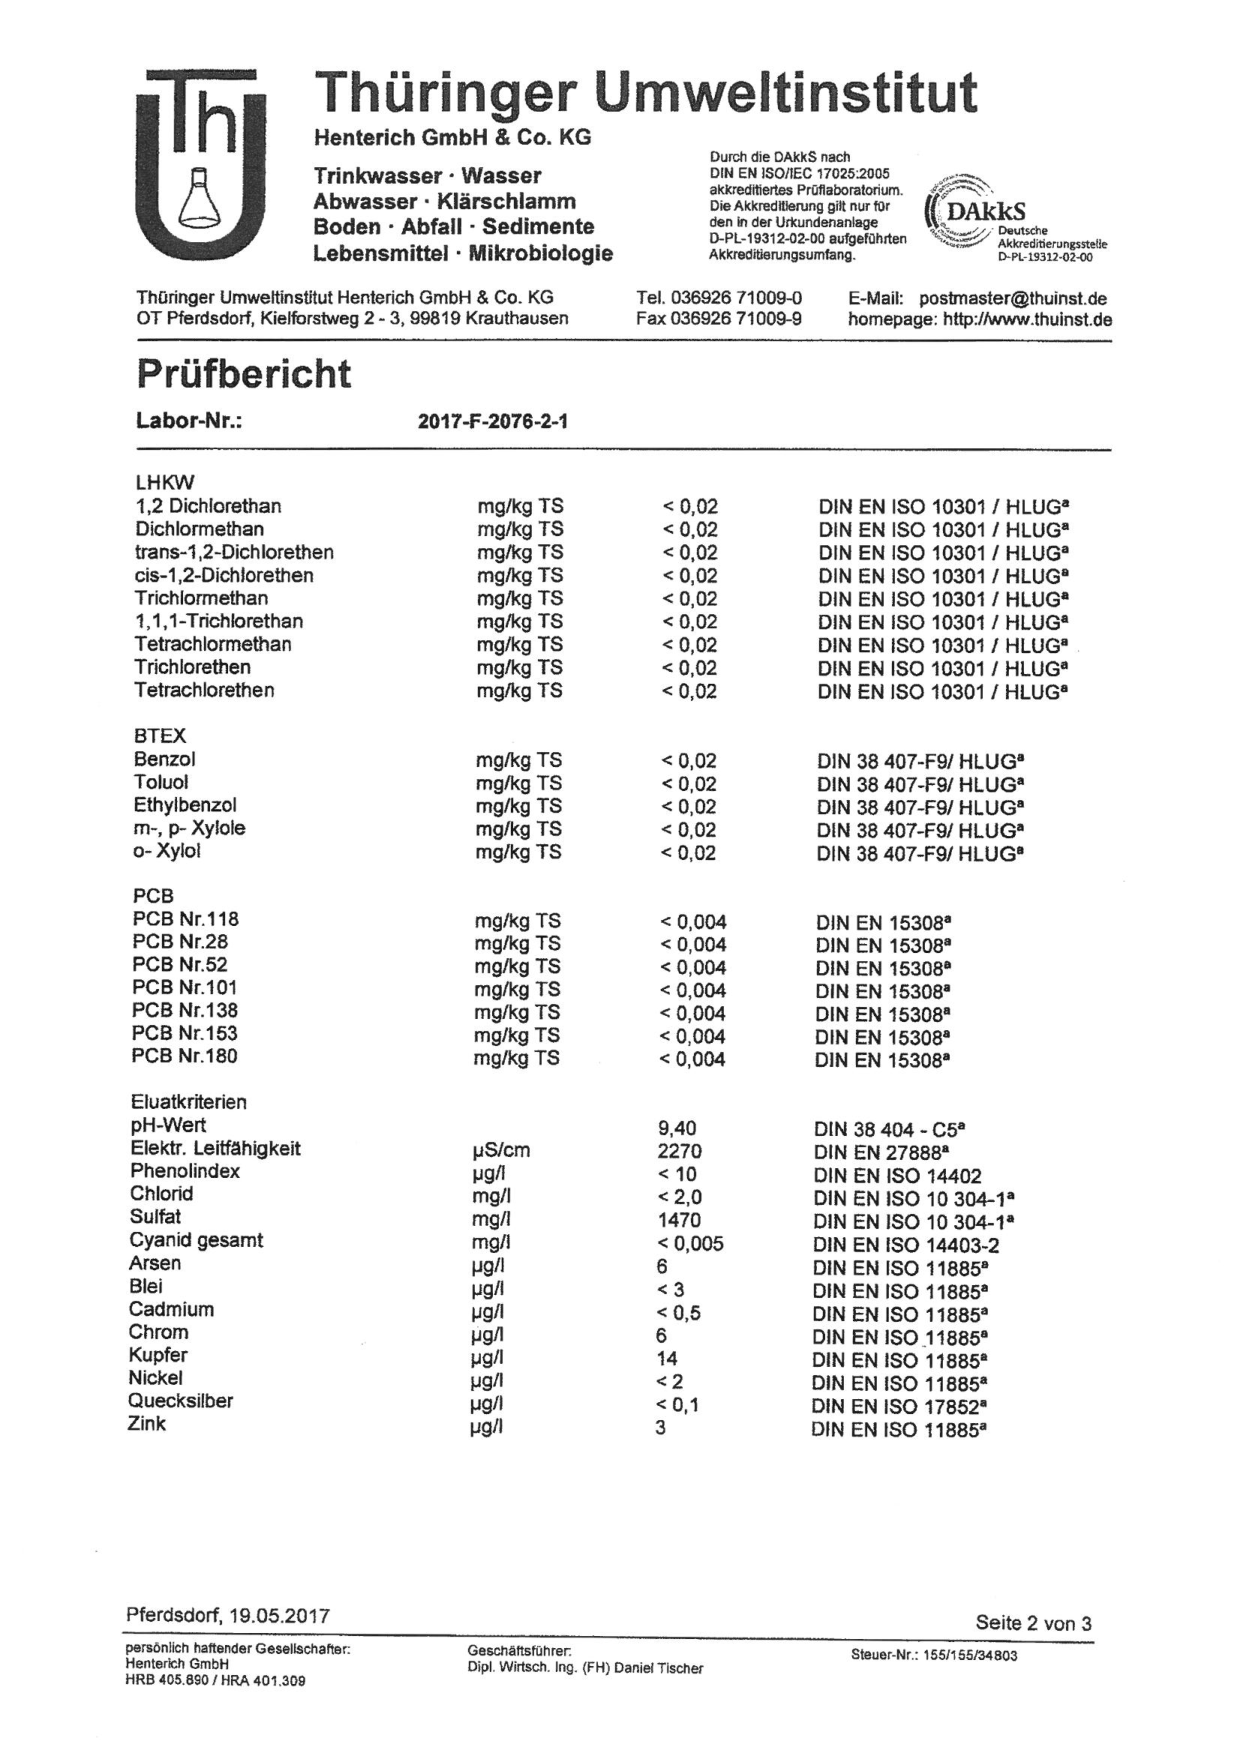table: (103, 1086, 1031, 1460), (115, 464, 1079, 711), (115, 883, 960, 1078), (119, 719, 1035, 874)
